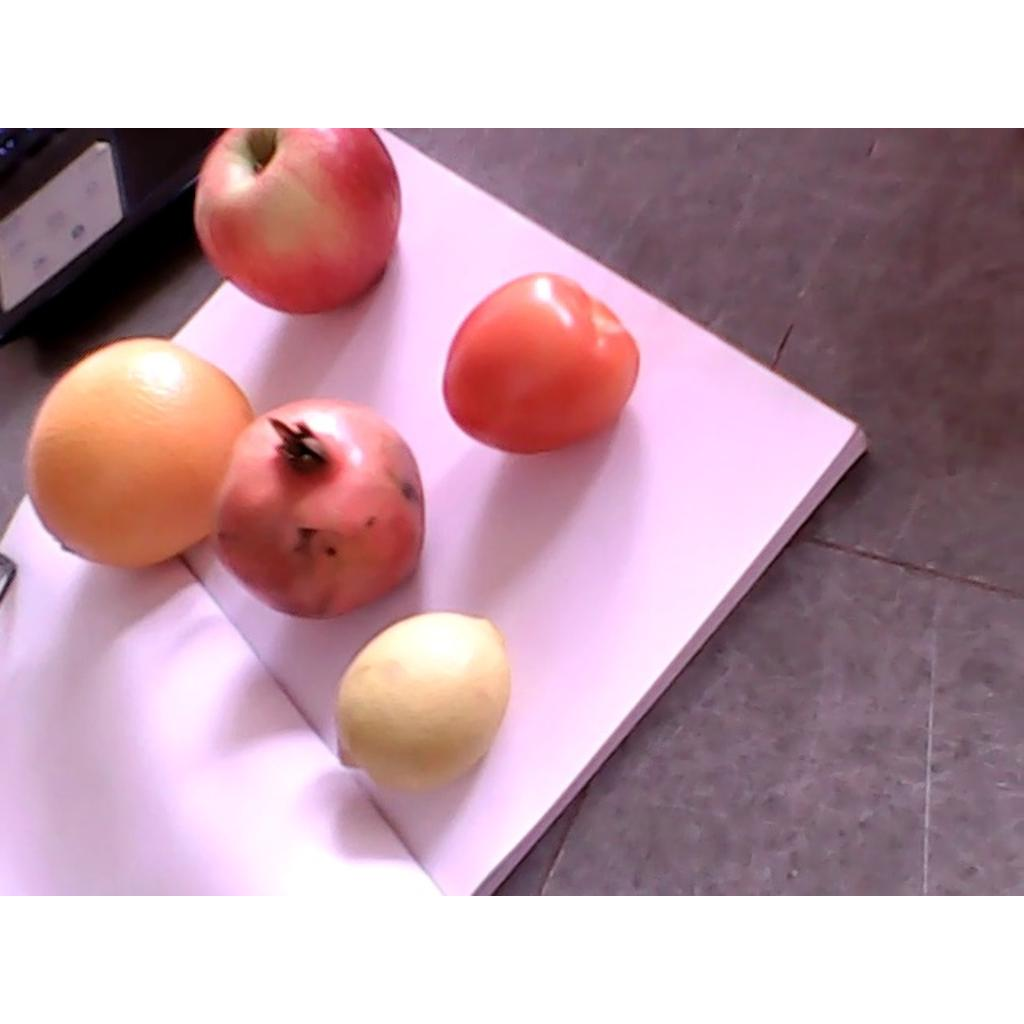apple: (195, 128, 402, 315)
lemon: (336, 611, 512, 796)
orange: (23, 336, 258, 570)
pomegranate: (213, 398, 424, 621)
tomato: (443, 271, 640, 453)
